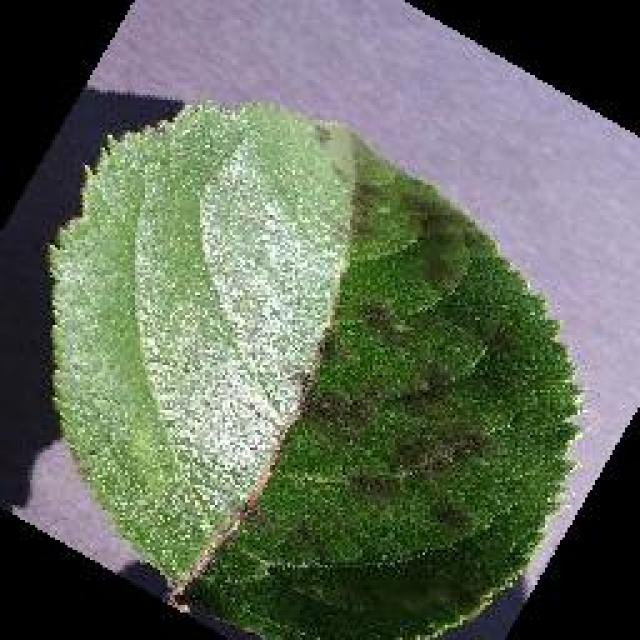apple scab disease: (43, 95, 585, 637)
